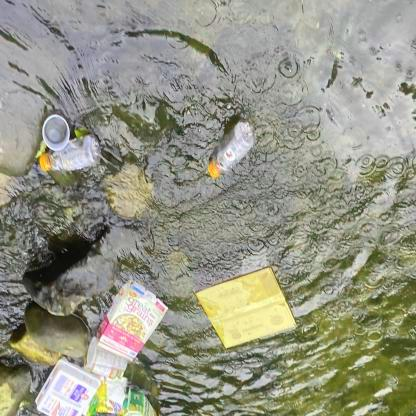Plastic: (32, 110, 104, 176), (204, 116, 259, 184)
